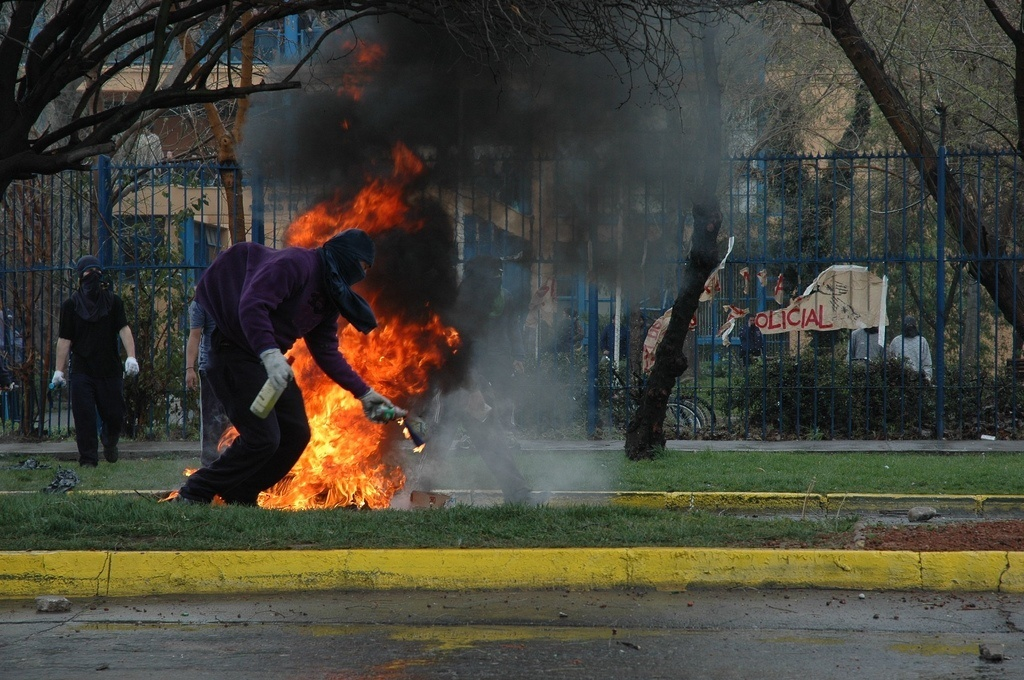fire: (206, 266, 462, 504), (286, 151, 428, 242)
